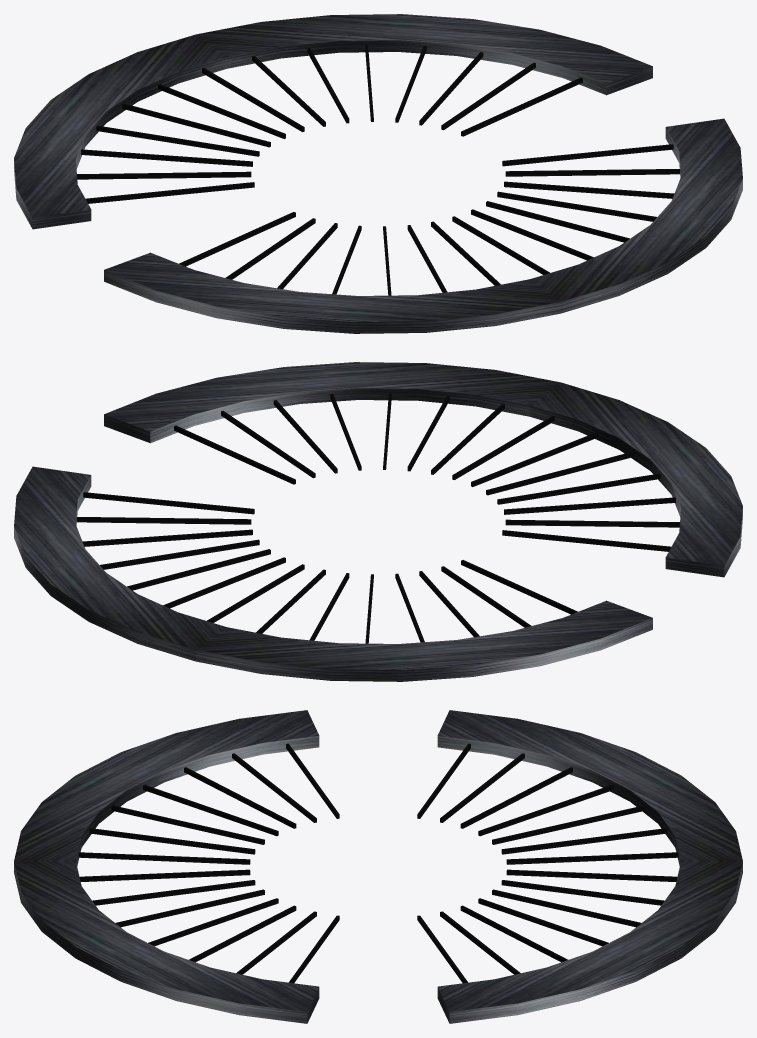
The model's file is base_lamp_bar.glb.
The picture shows the model from 3 angles, top to bottom: view 1: azimuth 30°, elevation 25°; view 2: azimuth 150°, elevation 25°; view 3: azimuth 270°, elevation 25°; orthographic projection.
Visible parts, largest first — view 1: Base Lamp Bar; view 2: Base Lamp Bar; view 3: Base Lamp Bar.
Part boxes in pixels (box(x1,y1,x2,y2)): Base Lamp Bar: box(14, 14, 742, 333); Base Lamp Bar: box(14, 362, 742, 681); Base Lamp Bar: box(14, 710, 742, 1023).
Size of what is drawn, in the model's own units: 8.79 by 0.1587 by 8.96.
1 material, 1 textured.
